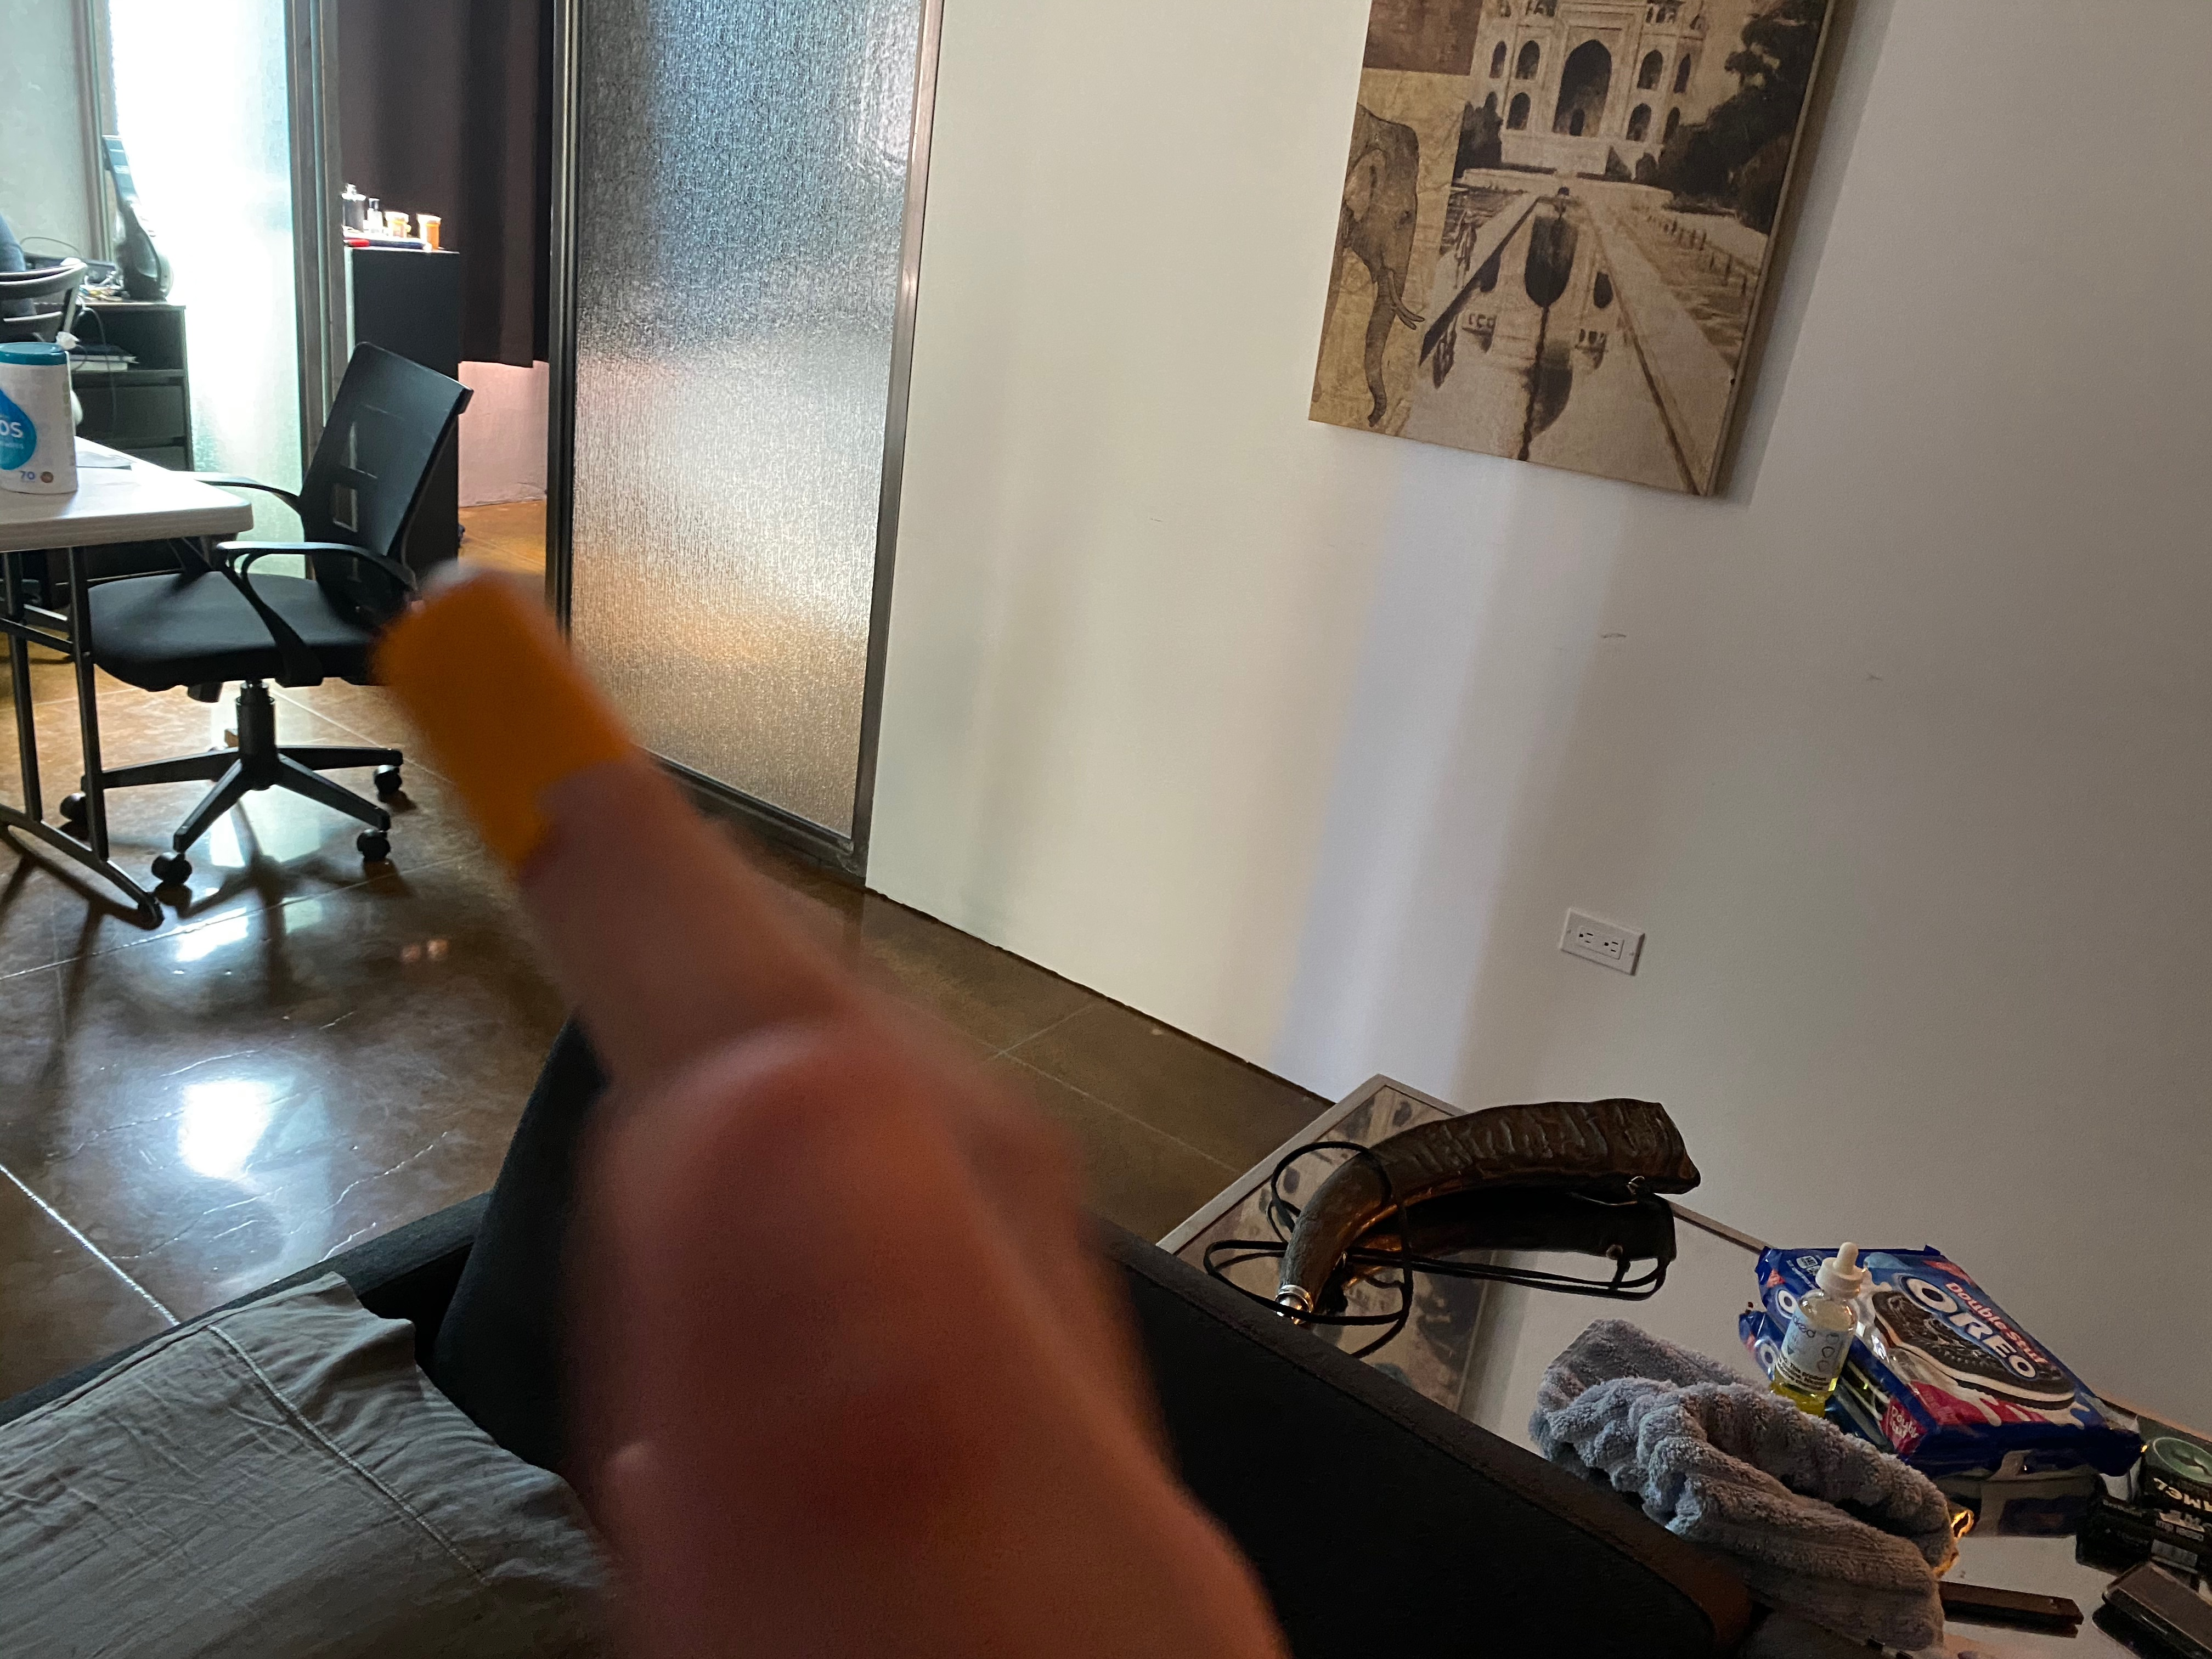fingertip: (343, 549, 737, 884)
